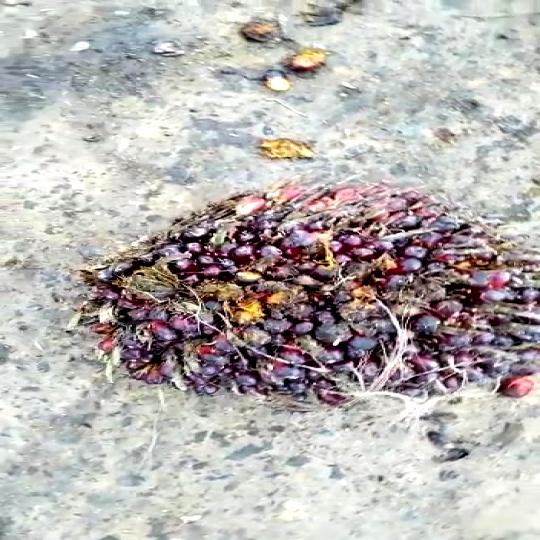masak: (74, 181, 540, 408)
